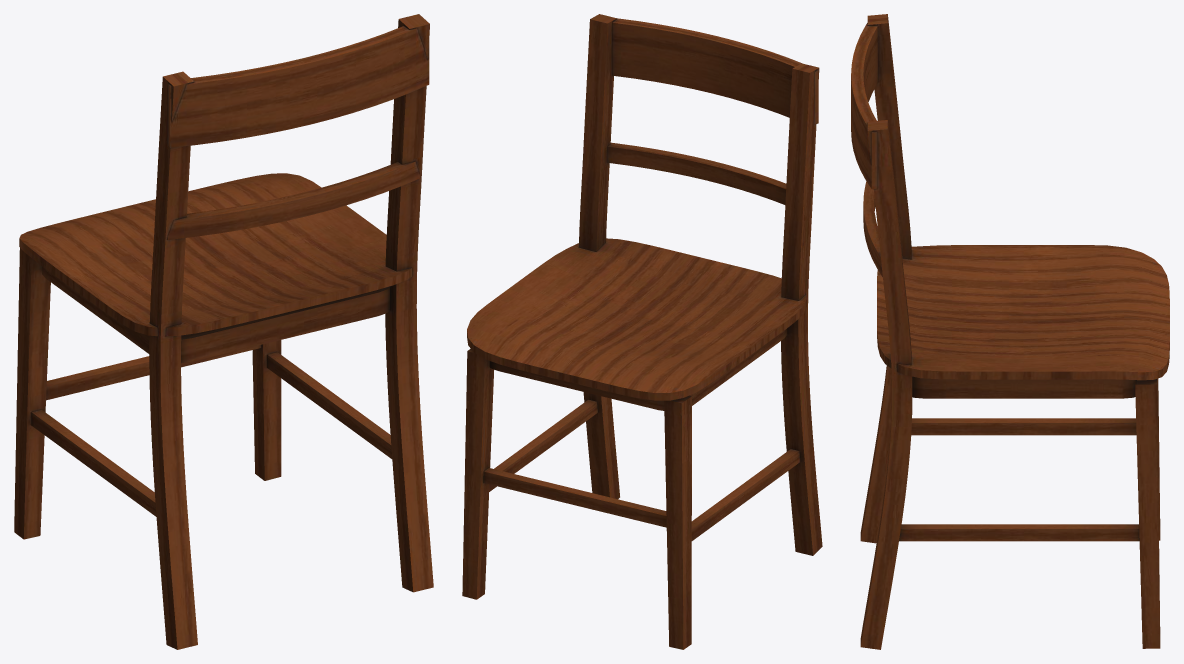
Rendered from chair_bent_web.glb.
The picture shows the model from 3 angles, left to right: view 1: azimuth 30°, elevation 25°; view 2: azimuth 150°, elevation 25°; view 3: azimuth 270°, elevation 25°; orthographic projection. The views are drawn at different scales.
Parts seen in each view (by area): view 1: ChairBent_Mesh; view 2: ChairBent_Mesh; view 3: ChairBent_Mesh.
Part boxes in pixels (x1,y1,x2,y2): ChairBent_Mesh: [14, 14, 433, 649]; ChairBent_Mesh: [462, 14, 822, 649]; ChairBent_Mesh: [851, 14, 1169, 649].
Bounding box in the file's own units: 0.44 × 0.8437 × 0.468.
Materials: 1 (1 with a texture image).
